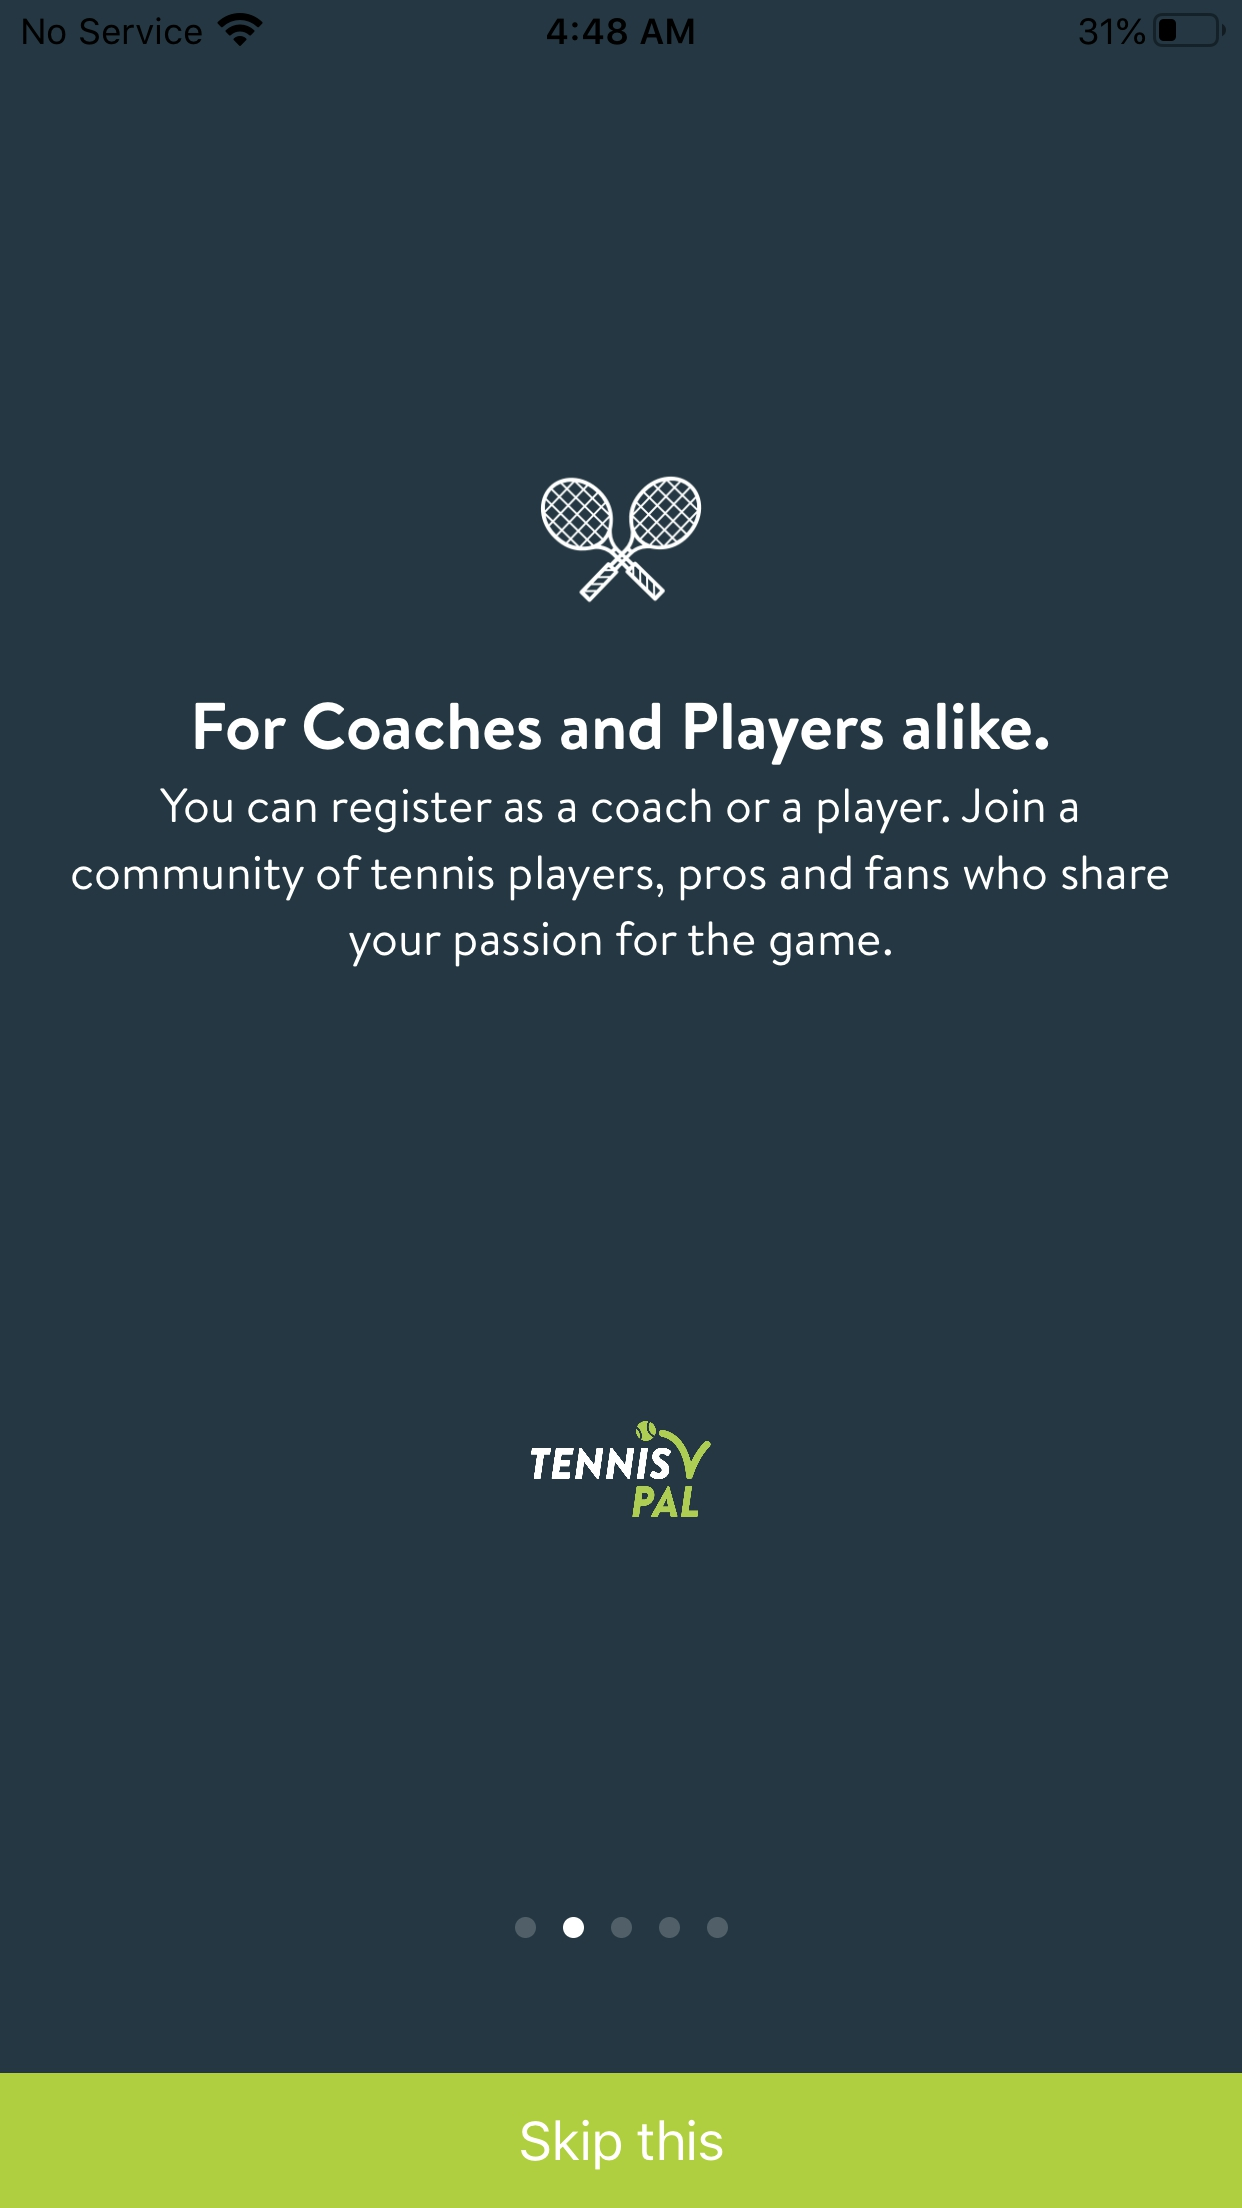Image: (541, 476, 702, 604), (531, 1419, 713, 1518)
PageIndicator: (516, 1915, 728, 1938)
Text: (73, 789, 1168, 968), (196, 702, 1048, 766)
TextButton: (2, 2072, 1242, 2208)
UpperTaskBar: (2, 2, 1242, 47)
